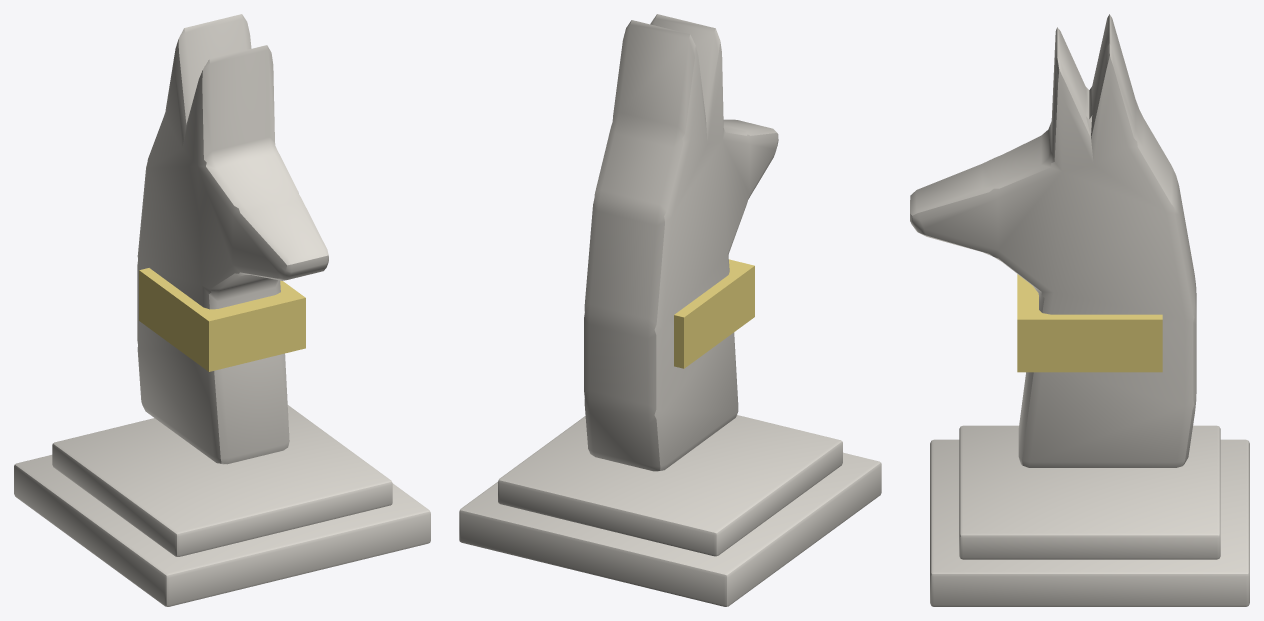
The model's file is Giza_Caballo.fbx.
The picture shows the model from 3 angles, left to right: view 1: azimuth 30°, elevation 25°; view 2: azimuth 150°, elevation 25°; view 3: azimuth 270°, elevation 25°; orthographic projection. The views are drawn at different scales.
Visible parts, largest first — view 1: Giza_Caballo; view 2: Giza_Caballo; view 3: Giza_Caballo.
Part boxes in pixels (x1=…): Giza_Caballo: x1=14, y1=14, x2=430, y2=606; Giza_Caballo: x1=459, y1=14, x2=881, y2=606; Giza_Caballo: x1=910, y1=14, x2=1249, y2=606.
Bounding box in the file's own units: 0.66 × 1.17 × 0.7013.
